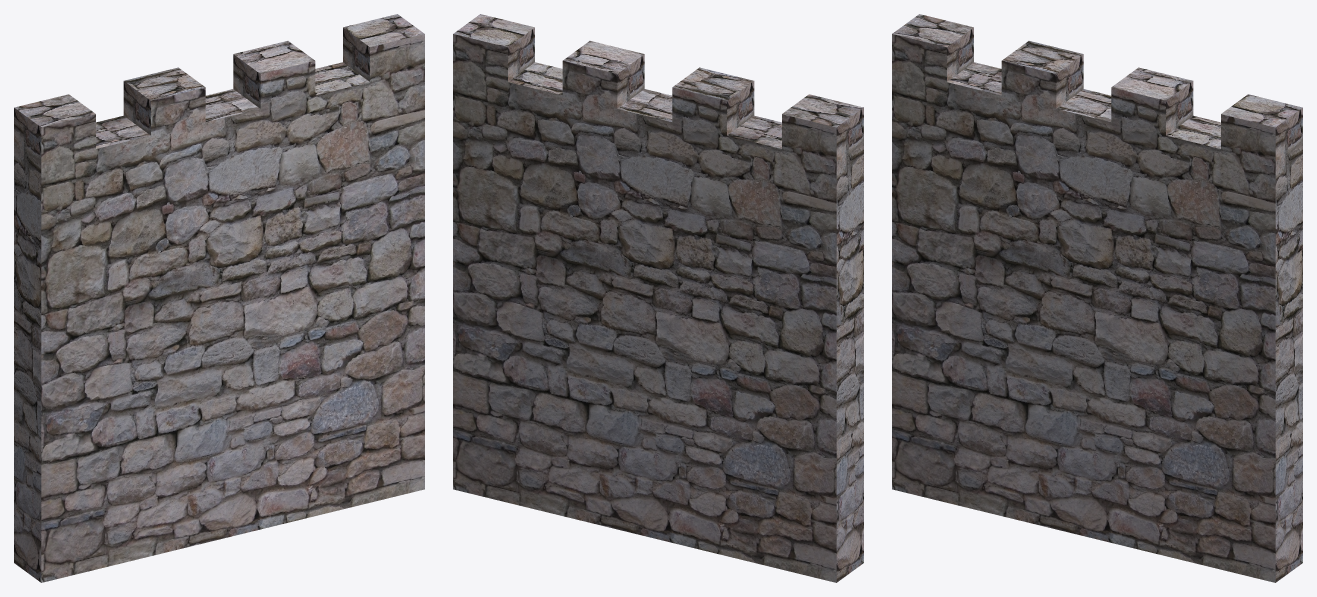
File: Stone_Wall_Castle_End_001.fbx
The picture shows the model from 3 angles, left to right: view 1: azimuth 30°, elevation 25°; view 2: azimuth 150°, elevation 25°; view 3: azimuth 330°, elevation 25°; orthographic projection.
Visible parts, largest first — view 1: Box001; view 2: Box001; view 3: Box001.
Boxes of the visible parts, x1,y1,x2,y2 form: Box001: (14, 14, 424, 582); Box001: (453, 14, 863, 582); Box001: (892, 14, 1302, 582).
Bounding box in the file's own units: 138 × 157 × 17.01.
1 material, 1 textured.
